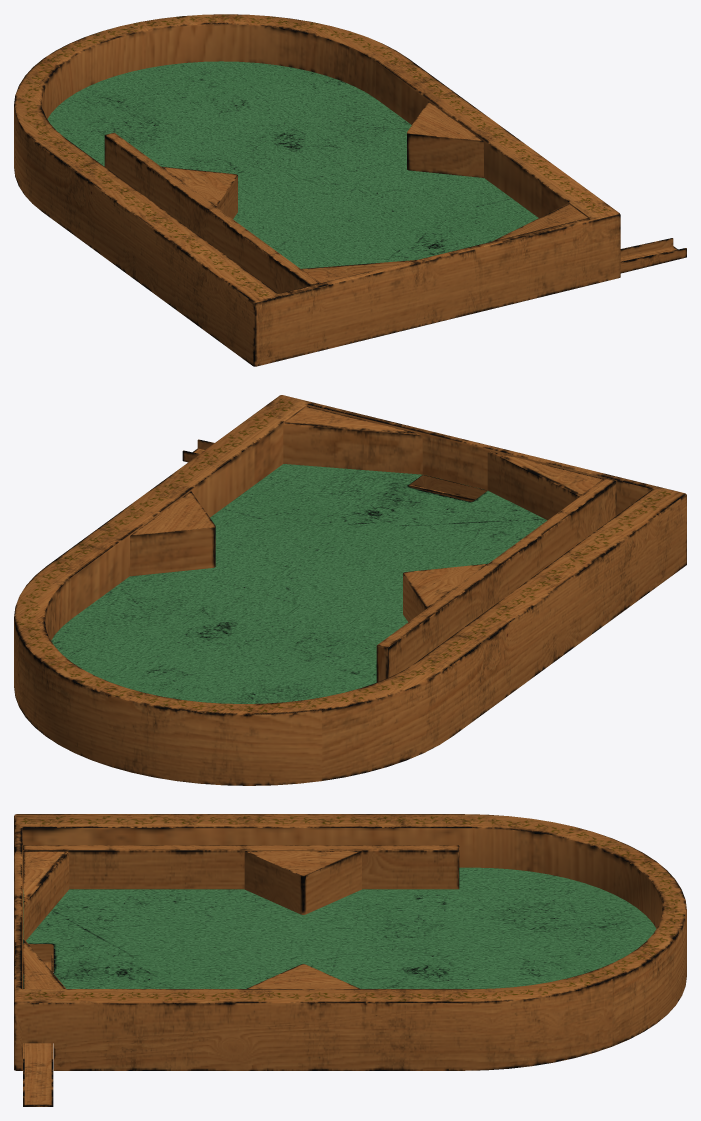
The picture shows the model from 3 angles, top to bottom: view 1: azimuth 30°, elevation 25°; view 2: azimuth 150°, elevation 25°; view 3: azimuth 270°, elevation 25°; orthographic projection. The views are drawn at different scales.
Visible parts, largest first — view 1: 1; view 2: 1; view 3: 1.
Part boxes in pixels (x1,y1,x2,y2): 1: (14,14,686,366); 1: (14,395,686,785); 1: (14,814,686,1106).
Size of the model in its own units: 266 by 37.36 by 335.
